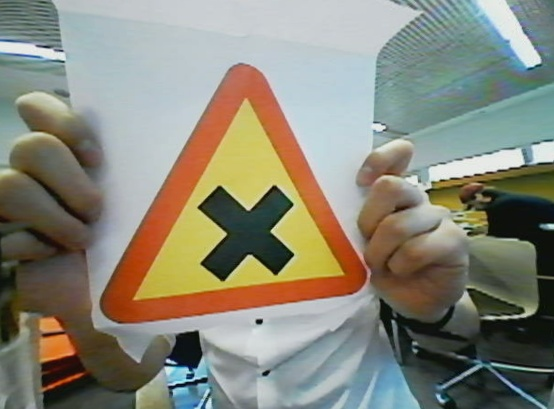junction: (88, 65, 383, 325)
